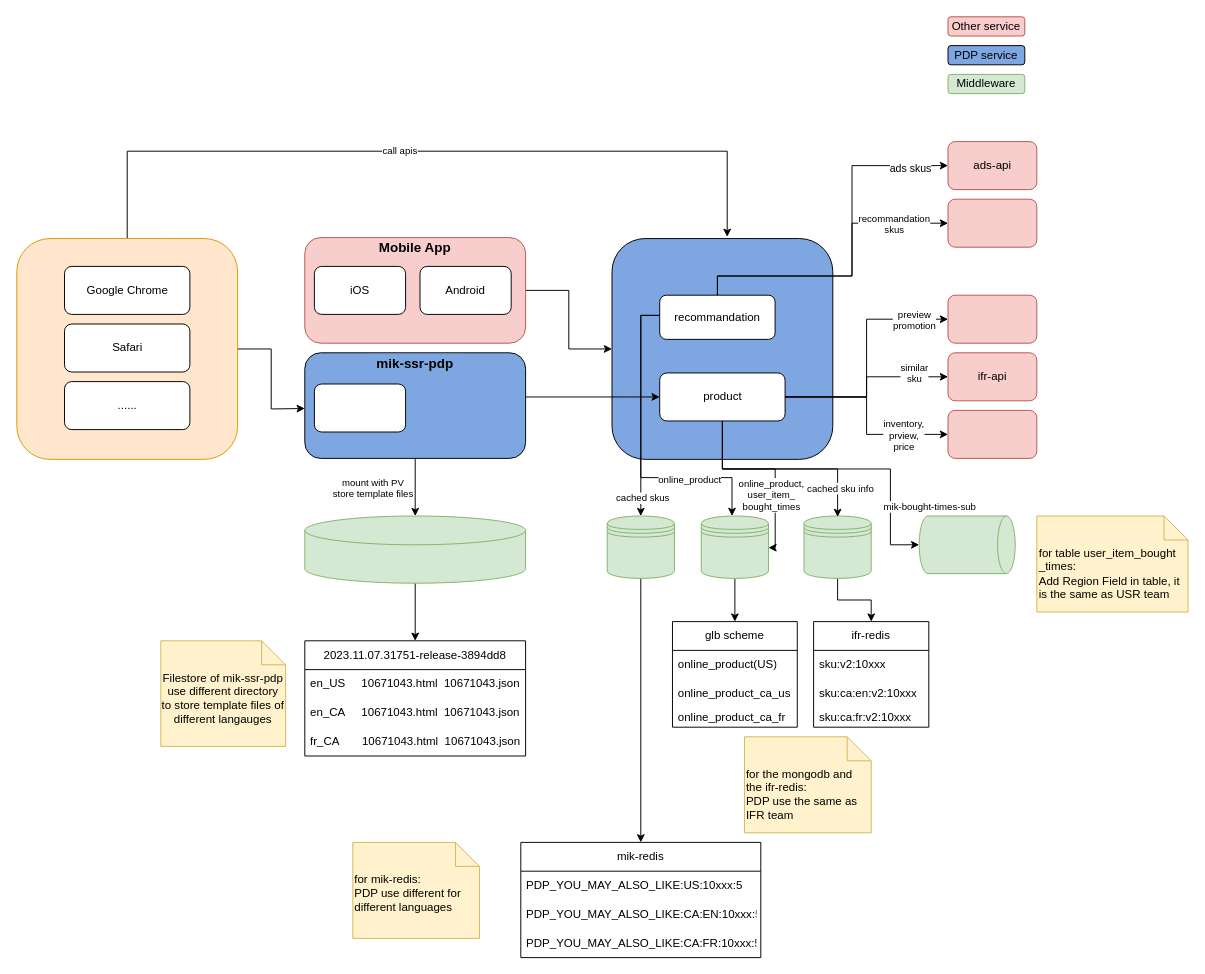
The diagram is 1205 pixels wide and 974 high, and some of its shapes have lost their labels. Here are the shapes that lost their labels. From the top down, the centre of each, then its label:
At pixel 992 222: "rec-api".
At pixel 122 248: "Browser".
At pixel 717 252: "mik-api".
At pixel 992 318: "mpe-api".
At pixel 359 407: "Node.js".
At pixel 992 433: "inv-api".
At pixel 415 549: "Filestore".
At pixel 640 546: "Redis (MIK)".
At pixel 734 546: "MongoDB".
At pixel 837 546: "Redis (IFR)".
At pixel 966 544: "Pub/Sub".
